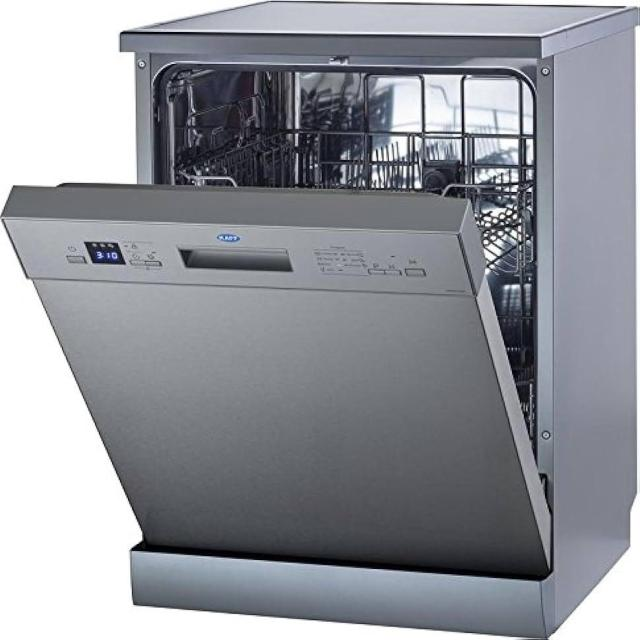dishwasher: (8, 4, 640, 625)
